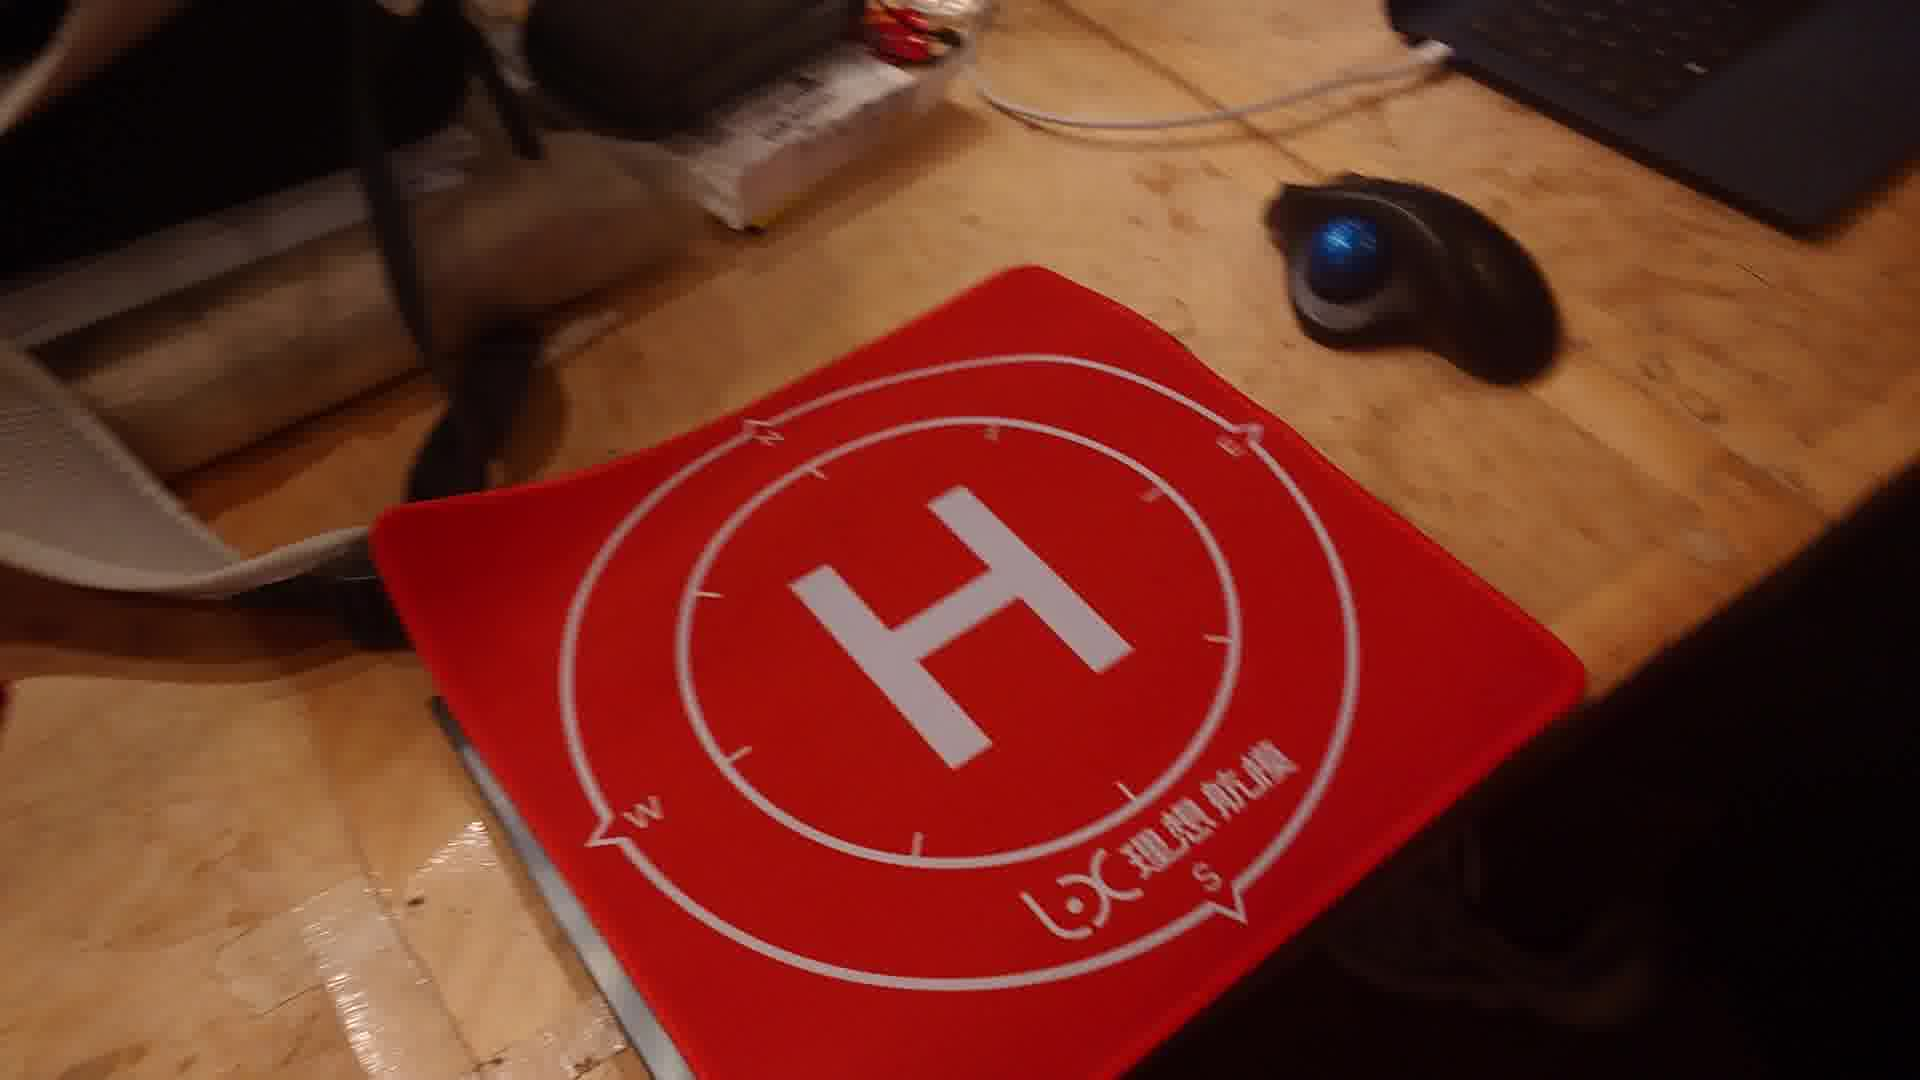H: (783, 483, 1141, 773)
